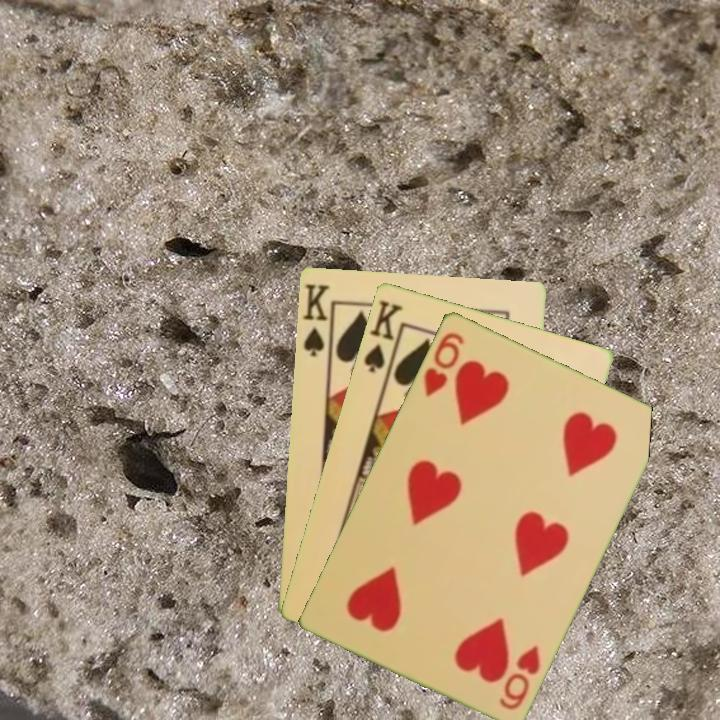6h: (495, 640, 543, 713), (419, 328, 467, 400)
Ks: (360, 296, 405, 375), (299, 279, 336, 362)
